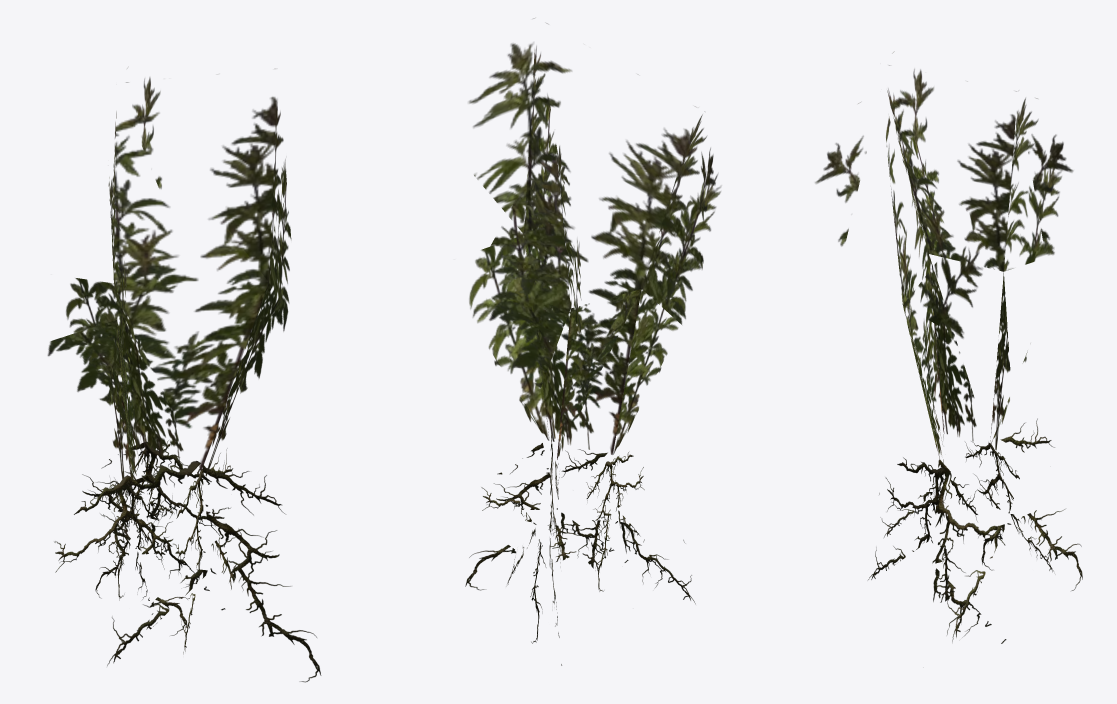
File: ITPL_WEED.glb
3 renders of one model, left to right at view 1: azimuth 30°, elevation 25°; view 2: azimuth 150°, elevation 25°; view 3: azimuth 270°, elevation 25°, orthographic. The views are drawn at different scales.
Visible parts, largest first — view 1: ITPL_WEED; view 2: ITPL_WEED; view 3: ITPL_WEED.
Part boxes in pixels (x1,y1,x2,y2): ITPL_WEED: (47, 77, 321, 682); ITPL_WEED: (465, 18, 721, 665); ITPL_WEED: (815, 51, 1082, 643).
Bounding box in the file's own units: 0.7356 × 1.38 × 0.6551.
Materials: 2 (2 with a texture image).
